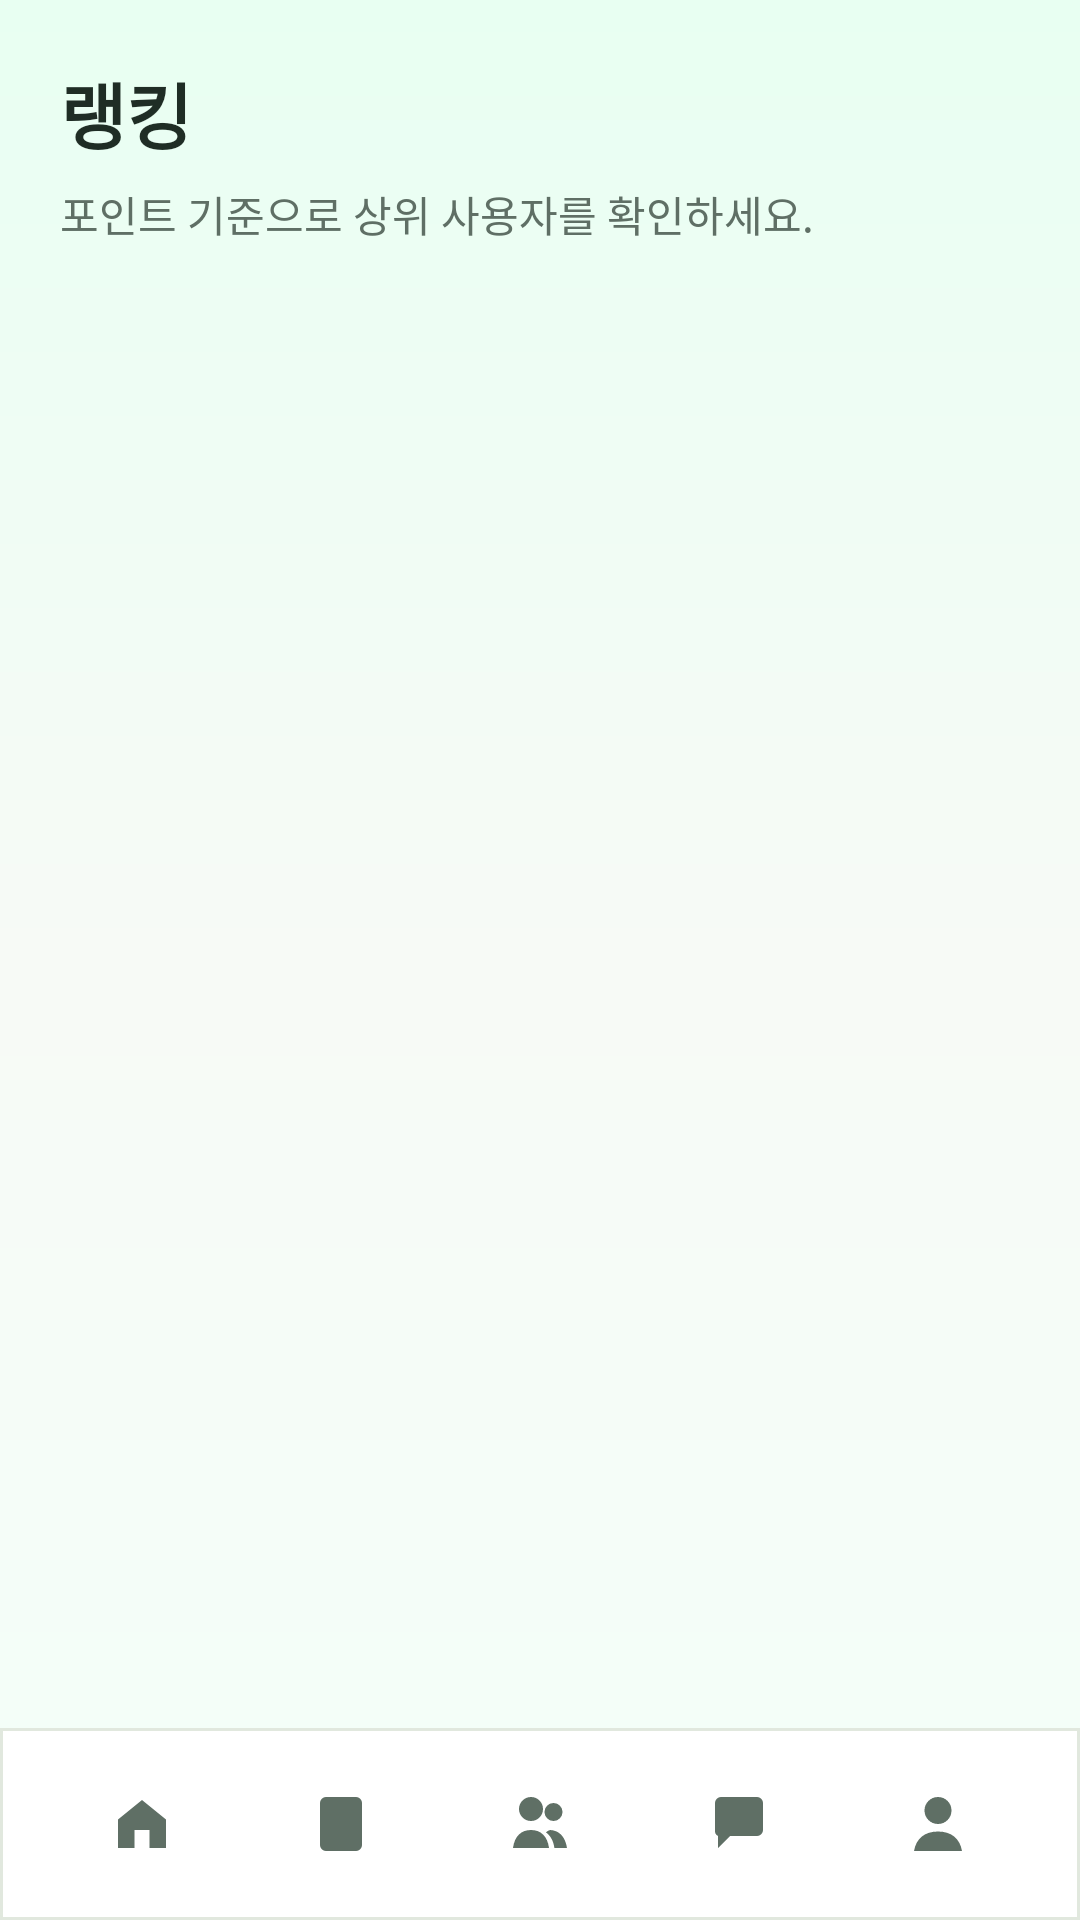

Where icons sit on this 1080w x 1920h app screen, as (x1, y1, x2, y2):
home: (118, 1800, 166, 1848)
마이페이지: (914, 1797, 962, 1851)
친구: (513, 1797, 567, 1848)
커뮤니티: (715, 1797, 763, 1848)
